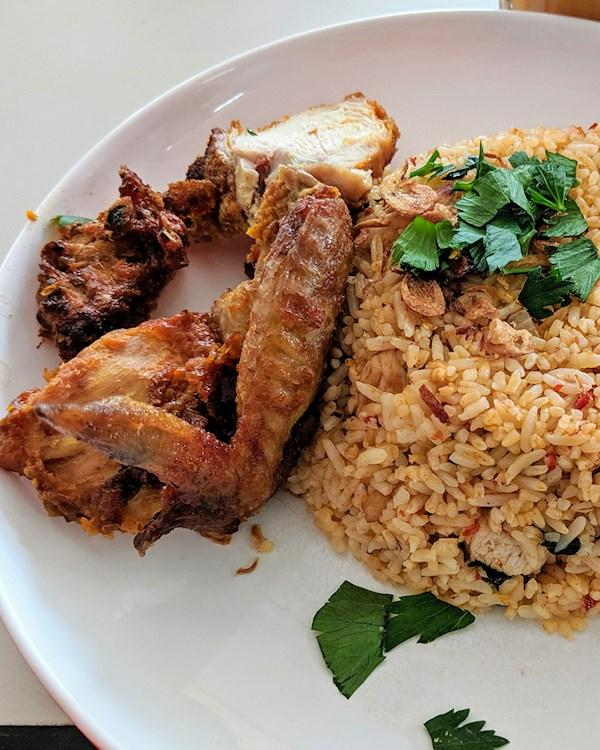buah_sayur_lainnya: (467, 179, 563, 246)
daging: (66, 383, 264, 506), (62, 229, 156, 296)
makanan_berpati: (368, 339, 585, 572)
